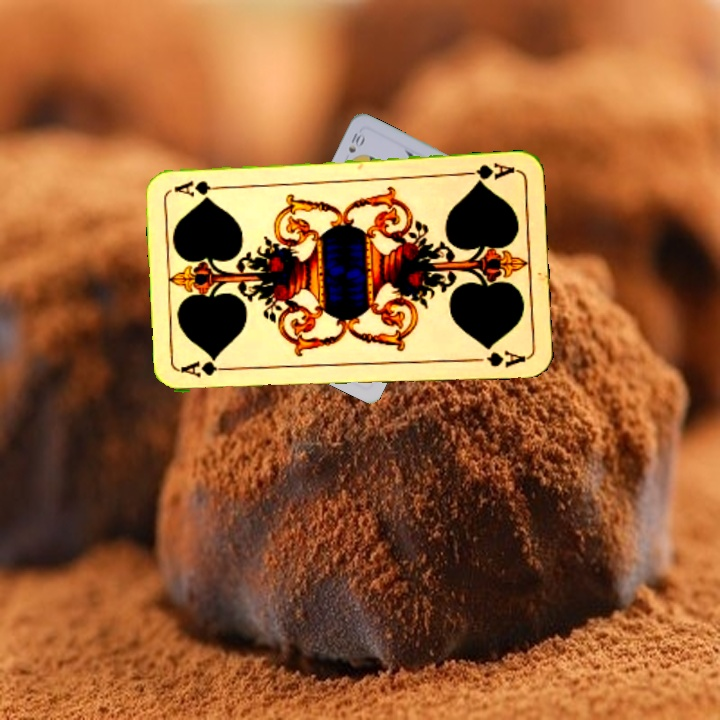GA: (459, 158, 518, 186), (178, 358, 237, 380)
S10: (344, 127, 368, 156)
